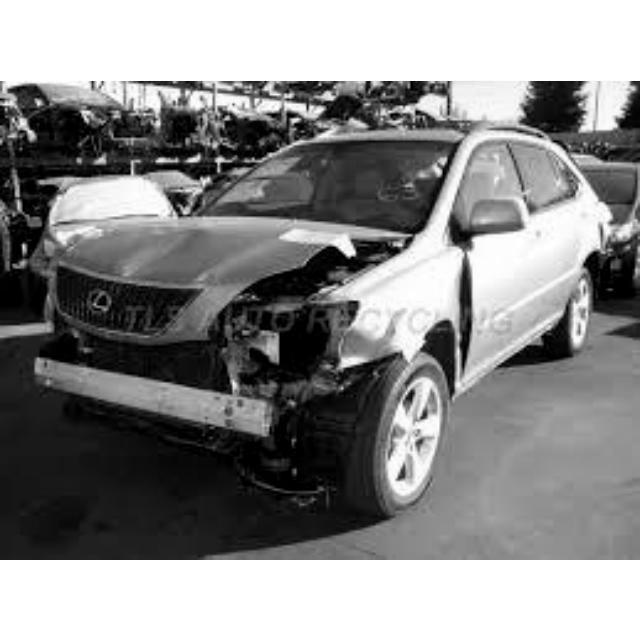bonnet-dent: (63, 209, 408, 317)
fender-dent: (356, 274, 457, 377)
front-bumper-dent: (68, 321, 245, 424)
